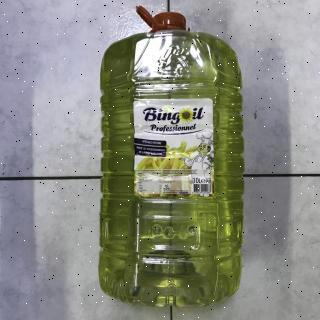Plastic-bottle: (94, 4, 252, 316)
